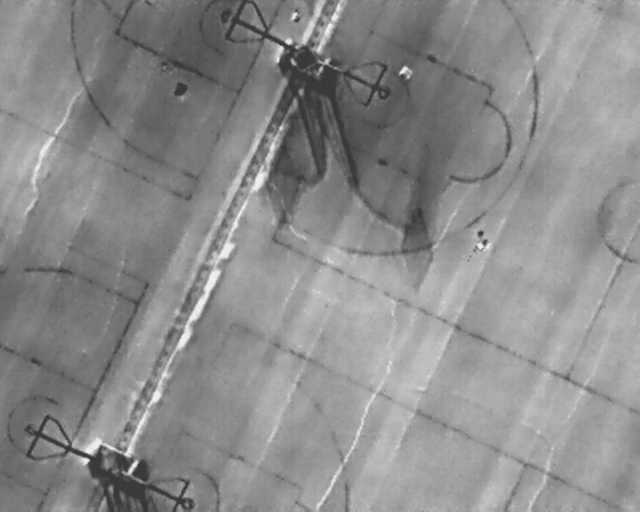Person: (476, 230, 490, 256), (172, 81, 190, 101), (399, 65, 413, 81), (290, 8, 300, 25)
